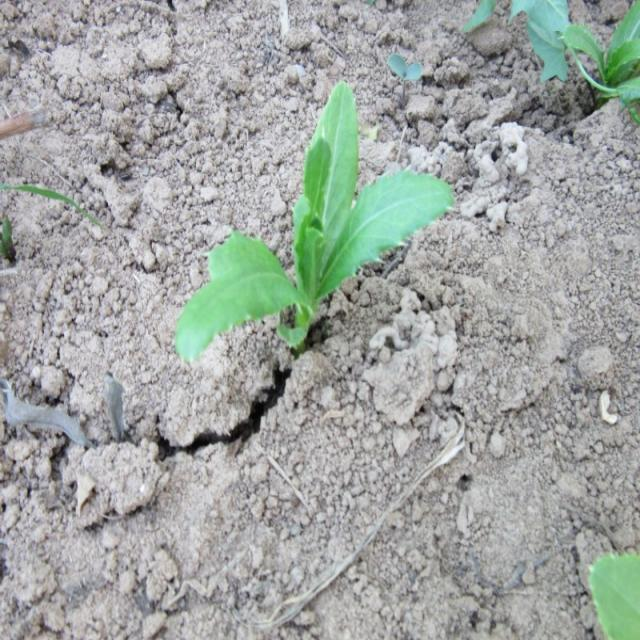cs: (173, 79, 456, 363)
